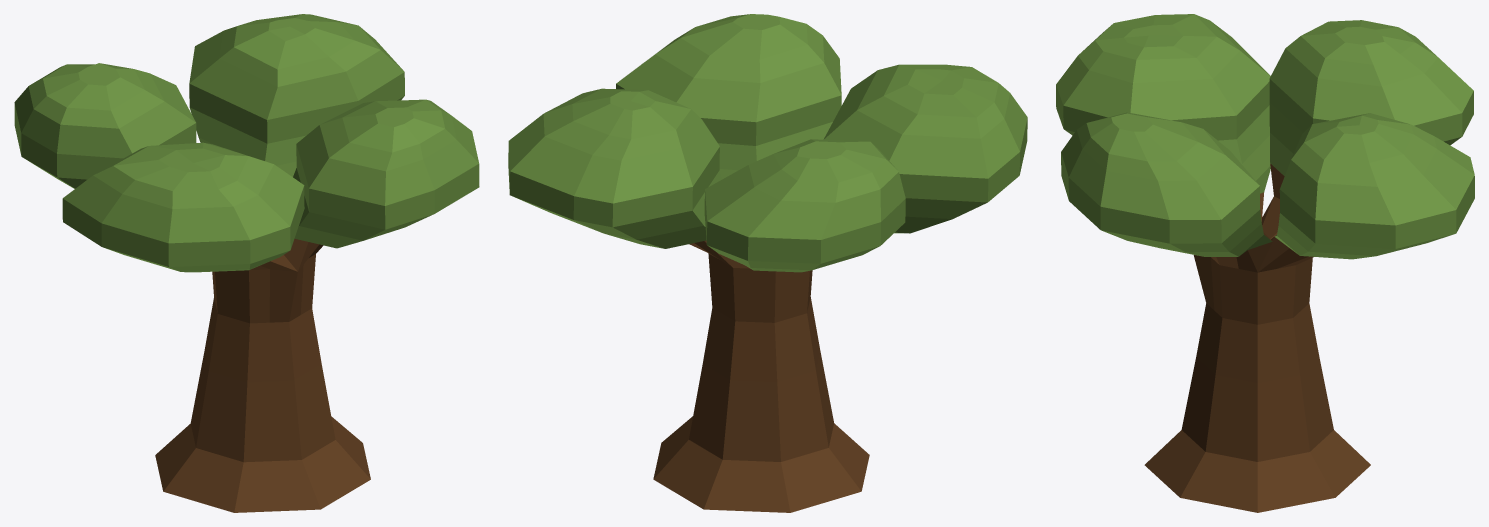
File: SM_MainTree.fbx
3 renders of one model, left to right at view 1: azimuth 30°, elevation 25°; view 2: azimuth 150°, elevation 25°; view 3: azimuth 270°, elevation 25°, orthographic.
Parts seen in each view (by area): view 1: Cube; view 2: Cube; view 3: Cube.
Boxes of the visible parts, x1,y1,x2,y2 form: Cube: (14,14,479,512); Cube: (508,14,1027,512); Cube: (1056,14,1474,512).
Bounding box in the file's own units: 3.81 × 3.55 × 3.53.
